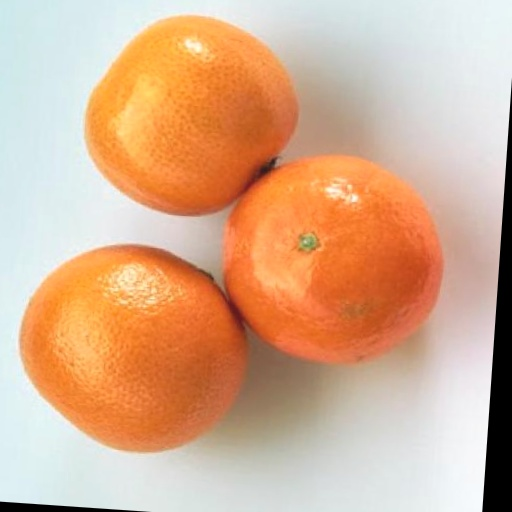fruit: (19, 246, 246, 451), (224, 156, 441, 363), (85, 16, 297, 215)
